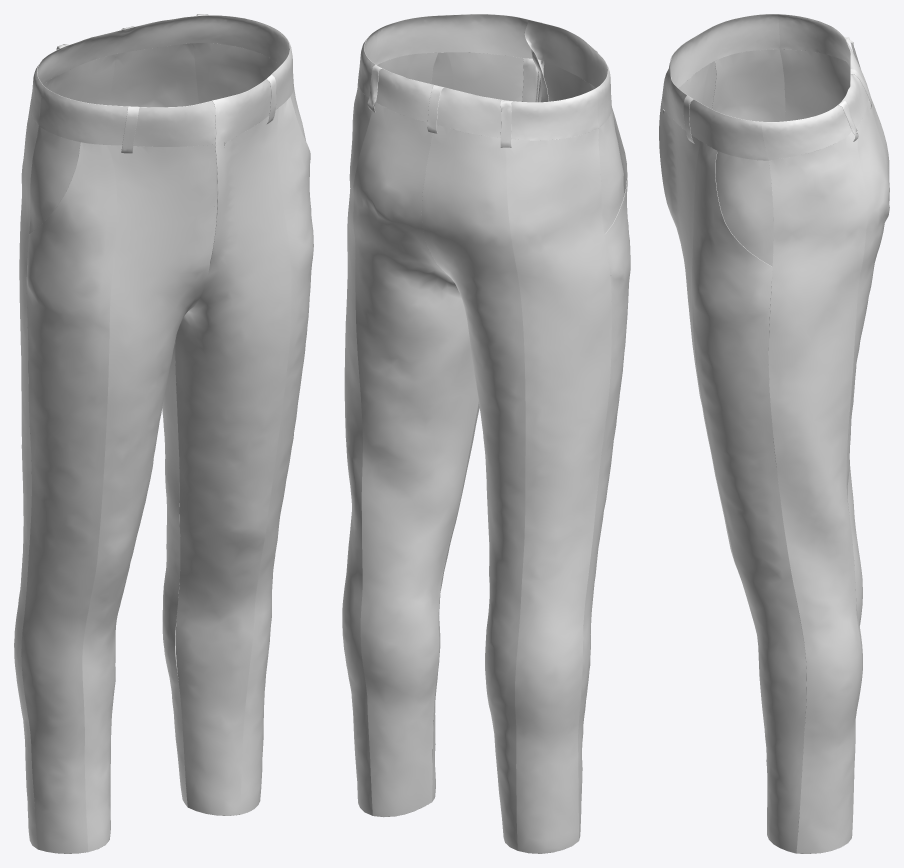
The model's file is trouser.glb.
3 renders of one model, left to right at view 1: azimuth 30°, elevation 25°; view 2: azimuth 150°, elevation 25°; view 3: azimuth 270°, elevation 25°, orthographic. The views are drawn at different scales.
Visible parts, largest first — view 1: paint_16_Node, paint_2_Node, paint_9_Node, paint_Node, paint_7_Node, paint_10_Node, paint_14_Node, paint_4_Node; view 2: paint_Node, paint_9_Node, paint_7_Node, paint_16_Node, paint_4_Node, paint_2_Node, paint_10_Node, paint_14_Node, paint_15_Node; view 3: paint_9_Node, paint_2_Node, paint_7_Node, paint_Node, paint_15_Node, paint_14_Node, paint_10_Node, paint_4_Node, paint_16_Node.
Boxes of the visible parts, x1,y1,x2,y2 form: paint_16_Node: (21,142,215,853); paint_2_Node: (175,96,313,815); paint_9_Node: (109,43,279,806); paint_Node: (14,54,116,849); paint_7_Node: (30,15,286,125); paint_10_Node: (39,86,215,146); paint_14_Node: (26,126,88,278); paint_4_Node: (212,36,293,145); paint_Node: (421,124,611,853); paint_9_Node: (342,83,478,817); paint_7_Node: (358,28,598,140); paint_16_Node: (543,61,630,840); paint_4_Node: (373,14,541,64); paint_2_Node: (431,52,539,801); paint_10_Node: (524,19,611,127); paint_14_Node: (598,109,623,275); paint_15_Node: (377,52,437,83); paint_9_Node: (768,100,889,853); paint_2_Node: (659,105,806,853); paint_7_Node: (761,14,868,160); paint_Node: (779,49,889,626); paint_15_Node: (715,150,773,308); paint_14_Node: (712,49,785,121); paint_10_Node: (669,14,779,88); paint_4_Node: (661,66,768,160); paint_16_Node: (679,60,766,765).
Size of the model in its own units: 36.85 by 101 by 28.55.
Materials: 62 (4 with a texture image).
